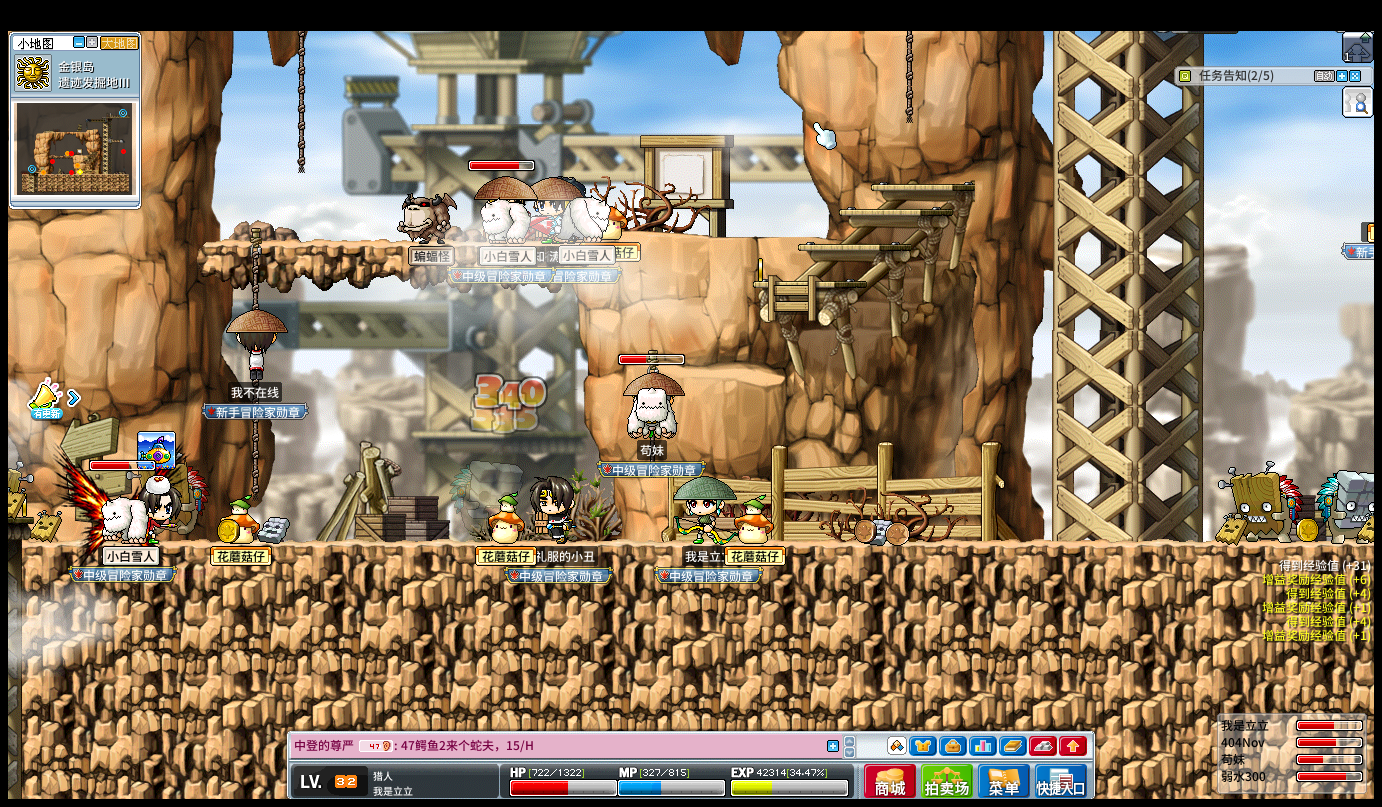floor: (200, 239, 578, 249), (678, 365, 785, 385), (676, 233, 835, 242), (687, 232, 835, 240), (749, 278, 865, 288), (794, 242, 912, 250), (835, 206, 947, 214), (871, 184, 975, 191)
monster: (1221, 463, 1301, 544), (1316, 469, 1375, 543)
rope: (297, 30, 306, 172), (248, 225, 259, 310), (903, 29, 912, 119), (250, 419, 260, 496)
